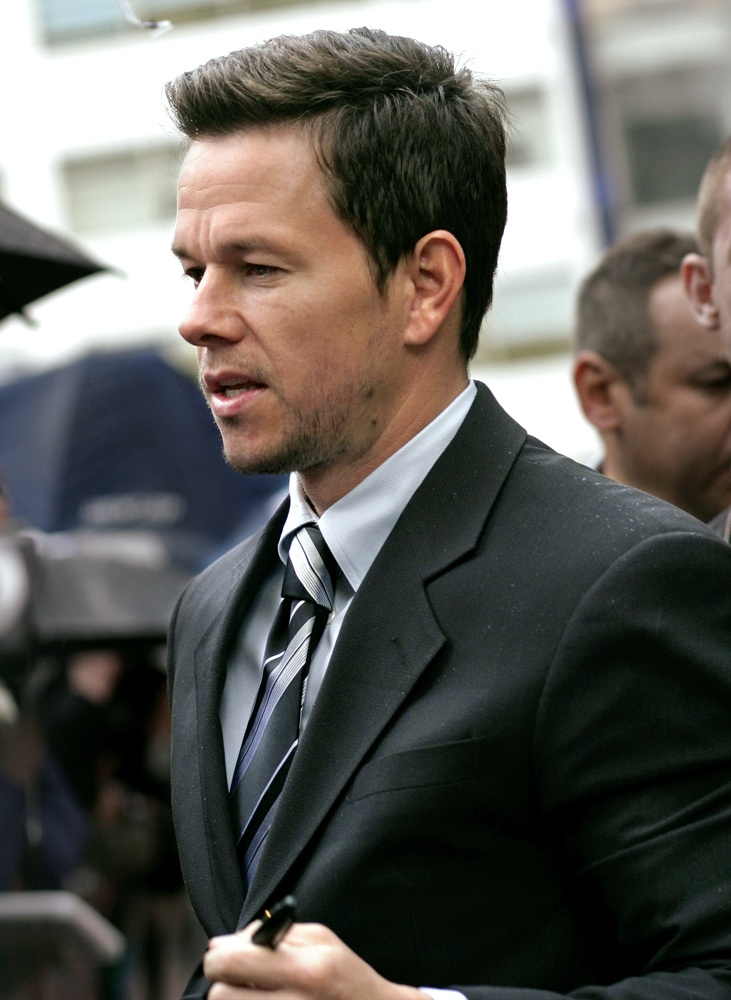bad: (82, 171, 349, 439)
